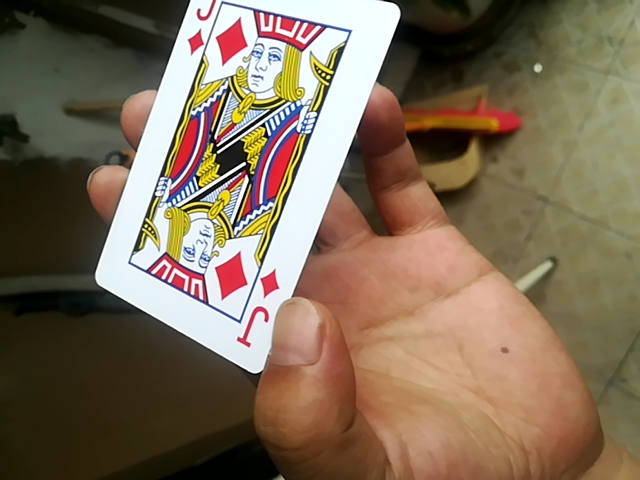fk j: (98, 2, 395, 378)
